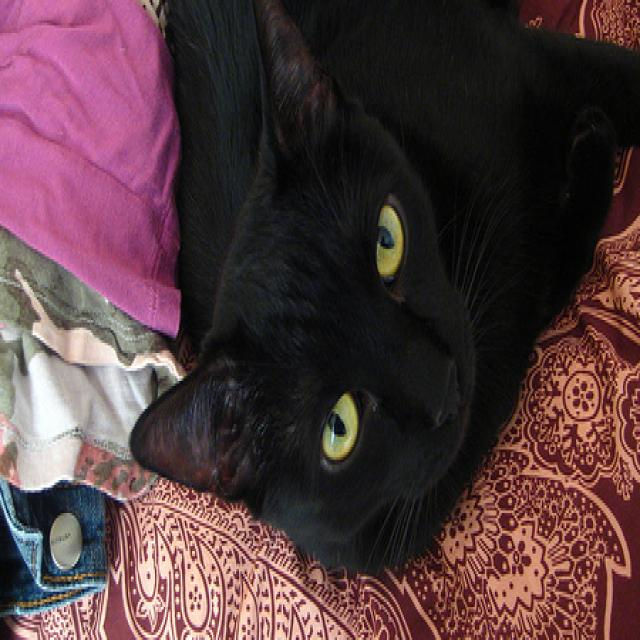Bombay: (122, 0, 640, 582)
